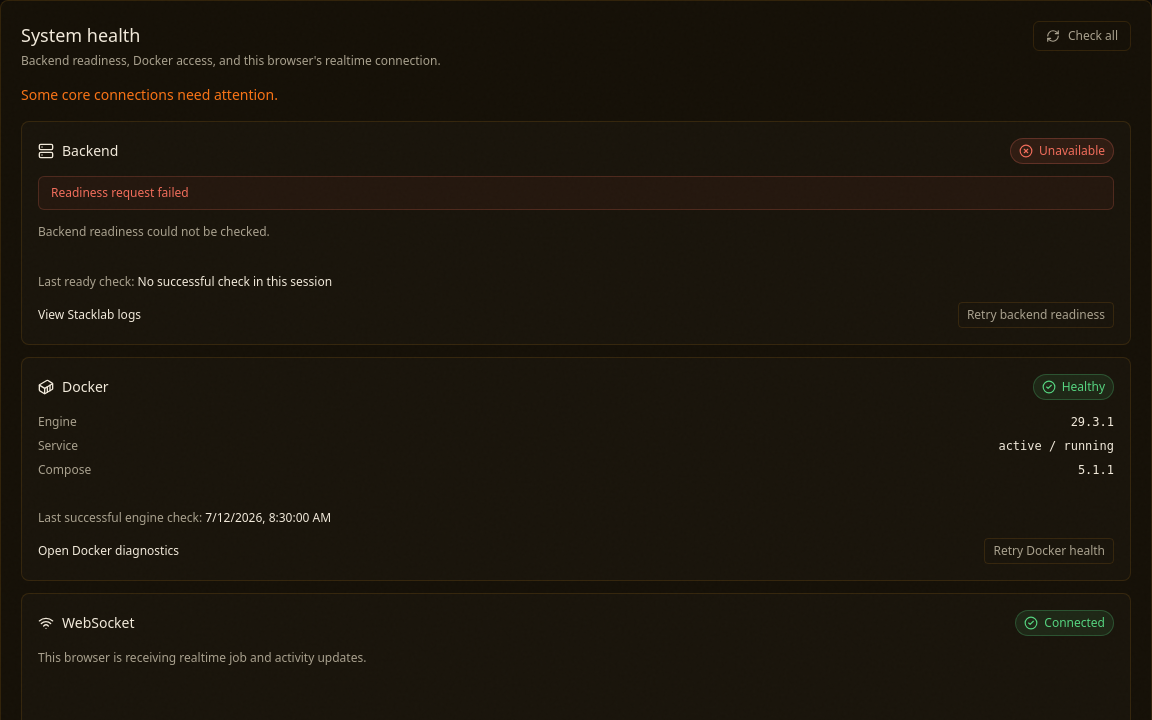
SystemHealthCenter › retries an initial backend failure without refetching Docker
Check: the message "Readiness request failed" is shown, box [38,176,1114,210]
Check: the text "Unavailable" is shown, box [1010,138,1114,164]
Click the button "Retry backend readiness". click: (1036, 315)
box: [958,302,1114,328]
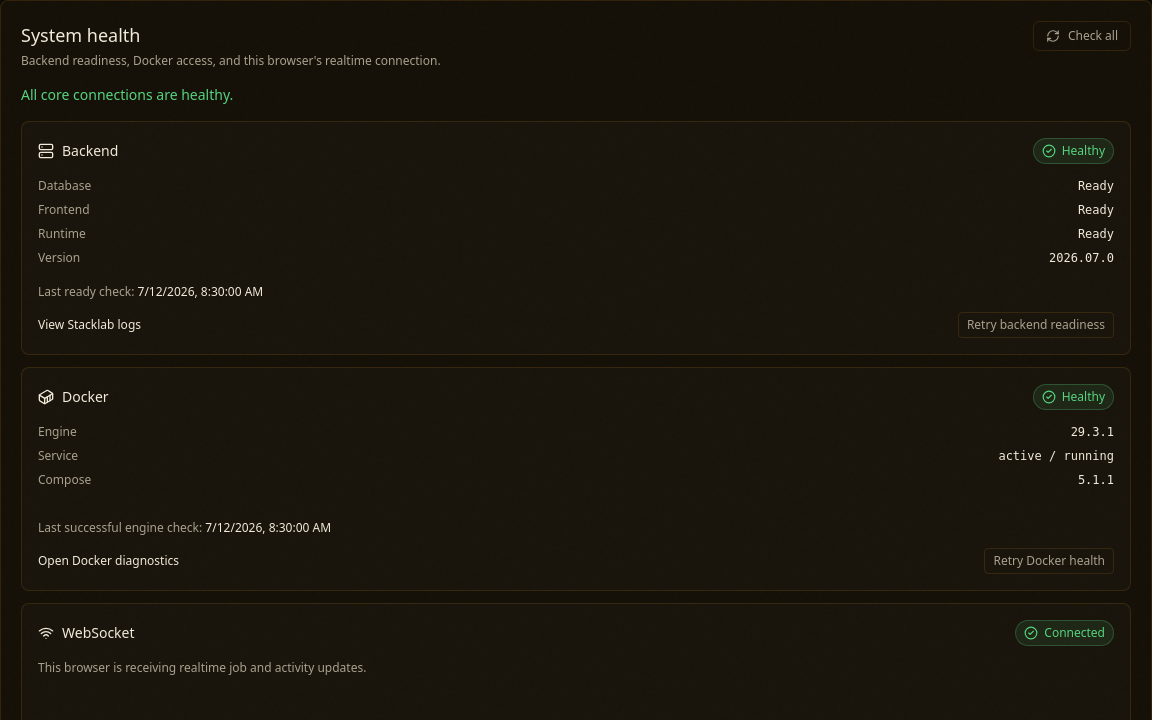
Check: the 1st text "Healthy" is shown, box [1033,138,1114,164]
